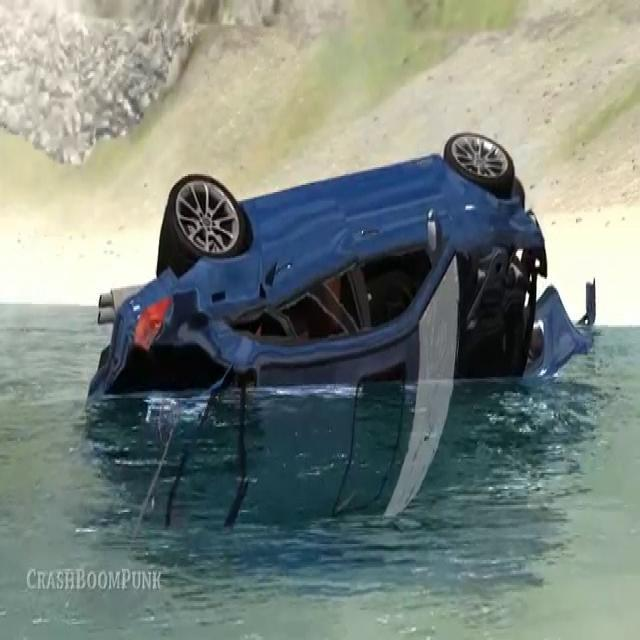severe: (86, 120, 602, 516)
